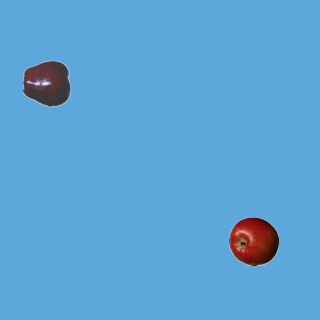Apple Braeburn: (228, 216, 278, 266)
Apple Red Delicious: (22, 58, 72, 108)
